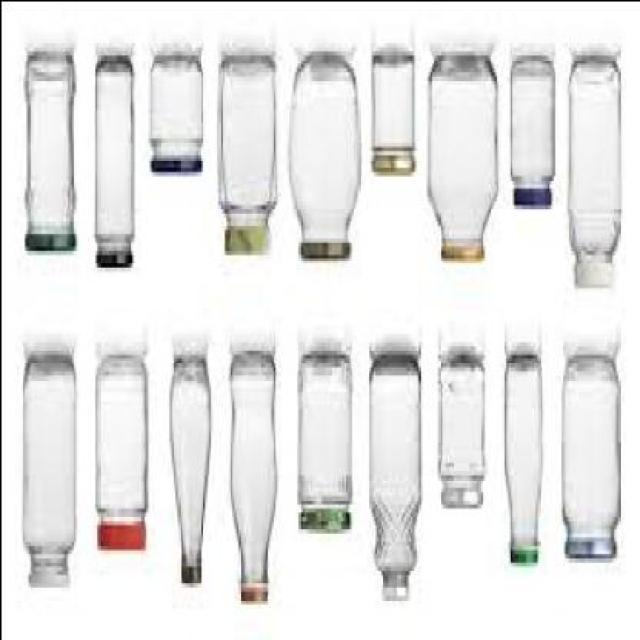GLASS: (289, 54, 360, 245), (428, 58, 499, 245), (229, 357, 280, 591), (370, 362, 422, 586), (23, 358, 77, 573), (562, 357, 620, 540), (570, 58, 622, 262), (219, 58, 278, 228), (26, 54, 76, 241), (170, 357, 212, 569), (98, 357, 148, 528), (300, 362, 354, 516), (96, 58, 136, 254), (507, 357, 544, 549), (436, 361, 487, 494), (150, 54, 204, 161), (513, 62, 556, 192), (372, 54, 418, 158)
METAL: (226, 228, 272, 258), (577, 262, 612, 296), (302, 512, 351, 536), (566, 540, 616, 562), (302, 245, 352, 266), (26, 240, 74, 258), (514, 191, 552, 212), (98, 249, 133, 271), (444, 494, 482, 512), (444, 249, 484, 266), (31, 578, 71, 594), (370, 166, 416, 179), (150, 167, 204, 176), (511, 552, 538, 570), (241, 590, 268, 607), (384, 586, 408, 603), (184, 573, 202, 590)
PLASTIC: (98, 523, 147, 557)
